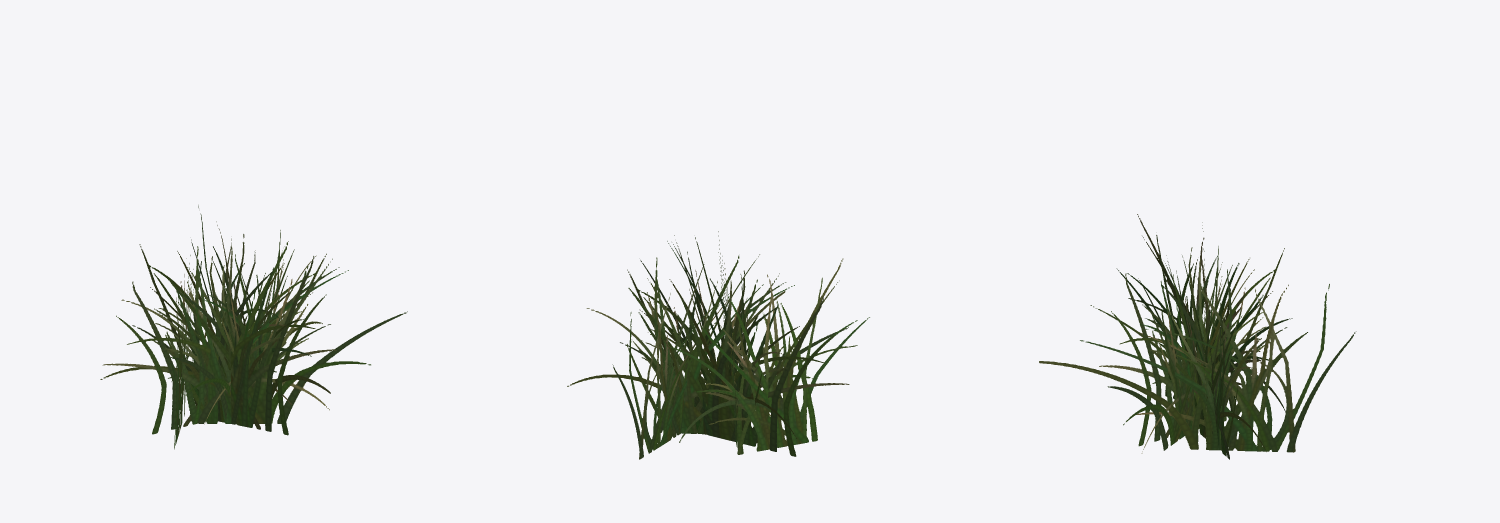
File: trava_nizka_3.glb
3 views of the same model, side by side, from view 1: azimuth 30°, elevation 25°; view 2: azimuth 150°, elevation 25°; view 3: azimuth 270°, elevation 25° (orthographic).
Visible parts, largest first — view 1: trava_nizka_3; view 2: trava_nizka_3; view 3: trava_nizka_3.
Part boxes in pixels (<box>): trava_nizka_3: <box>100,205,407,449</box>; trava_nizka_3: <box>567,231,869,459</box>; trava_nizka_3: <box>1039,214,1356,459</box>.
Size of the model in its own units: 0.543 by 0.4316 by 0.5426.
Materials: 1 (1 with a texture image).
